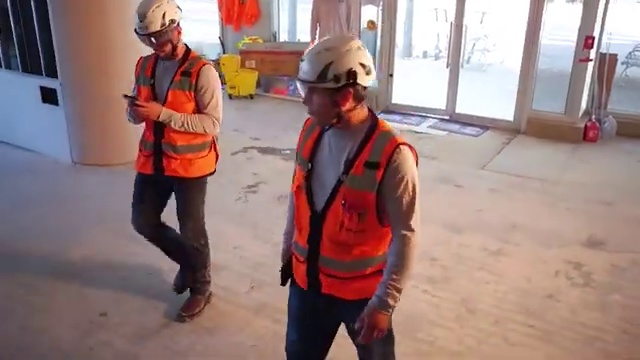helmet: (294, 35, 379, 91), (121, 1, 192, 33)
jacket: (295, 116, 413, 299), (121, 48, 233, 177)
